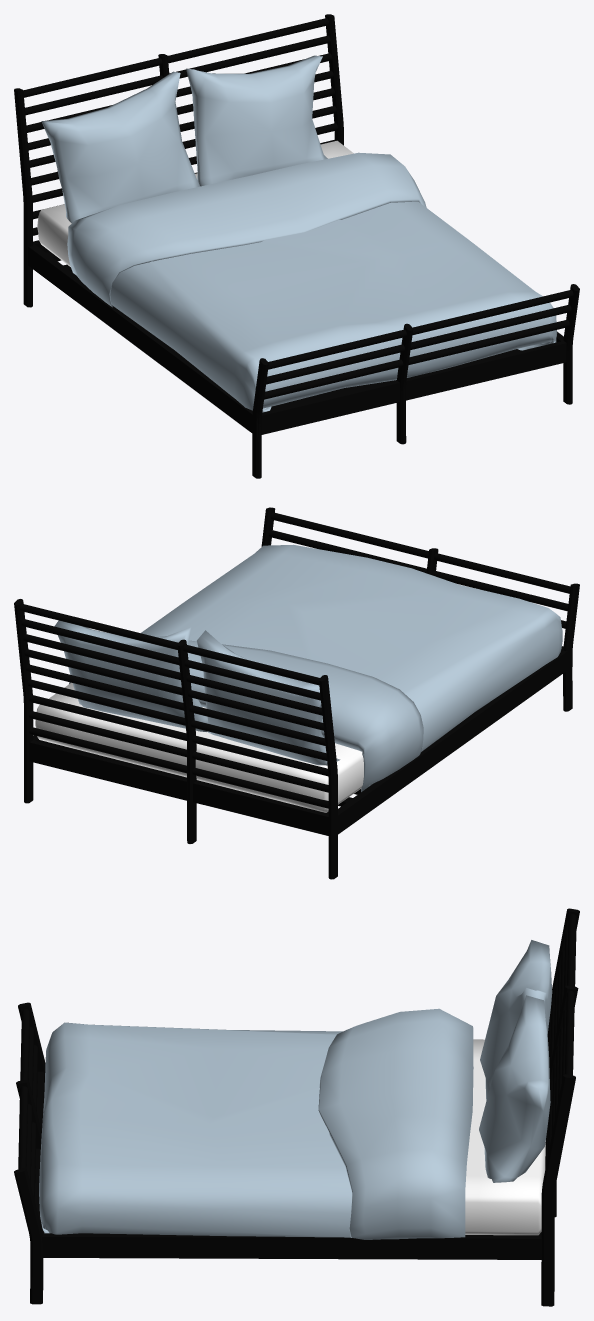
File: Sorum_Queen_Bed_Frame-3D.DAE
3 views of the same model, one above another, from view 1: azimuth 30°, elevation 25°; view 2: azimuth 150°, elevation 25°; view 3: azimuth 270°, elevation 25° (orthographic). The views are drawn at different scales.
Parts seen in each view (by area): view 1: Object02-Pivot, Box01, Box05, Box06, Object01-Pivot; view 2: Object02-Pivot, Box01, Object01-Pivot, Box05, Box06; view 3: Object02-Pivot, Box01, Box06, Object01-Pivot, Box05.
Part boxes in pixels (left/top/right/bottom): Object02-Pivot: left=67, top=152, right=557, bottom=412; Box01: left=14, top=14, right=579, bottom=478; Box05: left=41, top=71, right=199, bottom=223; Box06: left=186, top=55, right=327, bottom=186; Object01-Pivot: left=37, top=140, right=353, bottom=266; Object02-Pivot: left=69, top=544, right=562, bottom=791; Box01: left=14, top=507, right=579, bottom=879; Object01-Pivot: left=35, top=682, right=363, bottom=812; Box05: left=197, top=630, right=340, bottom=765; Box06: left=54, top=620, right=208, bottom=731; Object02-Pivot: left=39, top=1008, right=473, bottom=1239; Box01: left=14, top=908, right=579, bottom=1306; Box06: left=479, top=995, right=550, bottom=1182; Object01-Pivot: left=465, top=1039, right=545, bottom=1235; Box05: left=480, top=940, right=552, bottom=1100.
Size of the model in its own units: 1662 by 1020 by 2278.
